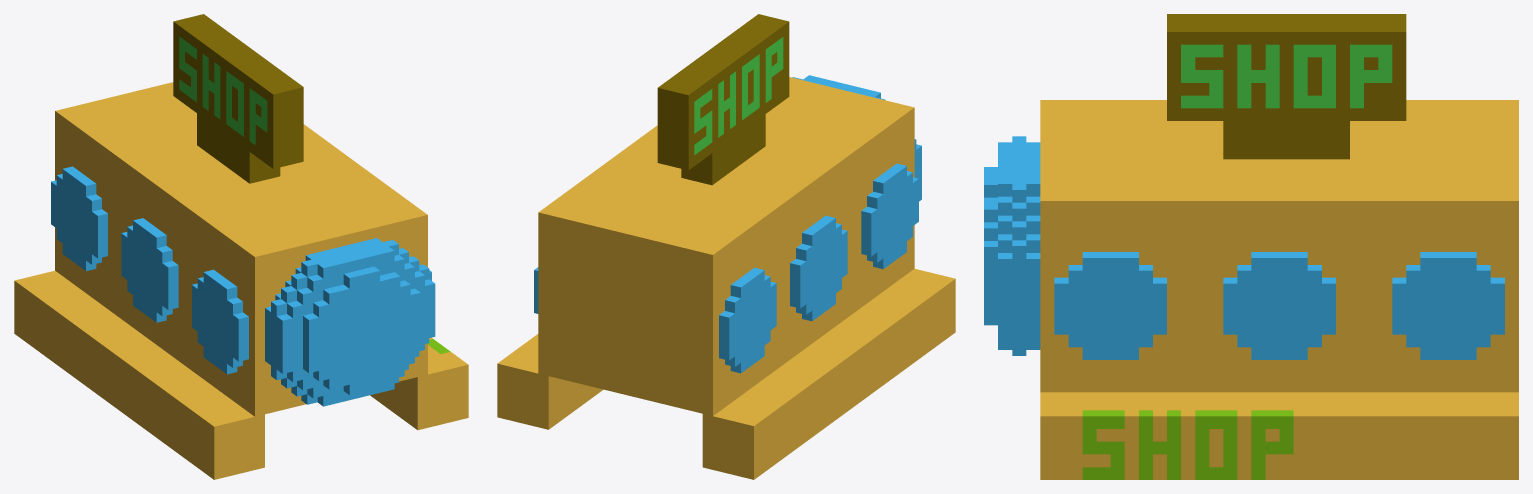
The model's file is shopmarine_body.glb.
3 renders of one model, left to right at view 1: azimuth 30°, elevation 25°; view 2: azimuth 150°, elevation 25°; view 3: azimuth 270°, elevation 25°, orthographic. The views are drawn at different scales.
Visible parts, largest first — view 1: shopmarine_body; view 2: shopmarine_body; view 3: shopmarine_body.
Part boxes in pixels (bbox=[...]): shopmarine_body: bbox=[14, 14, 468, 479]; shopmarine_body: bbox=[497, 14, 955, 479]; shopmarine_body: bbox=[984, 14, 1518, 479].
Bounding box in the file's own units: 25 × 30 × 38.
1 material, 1 textured.
